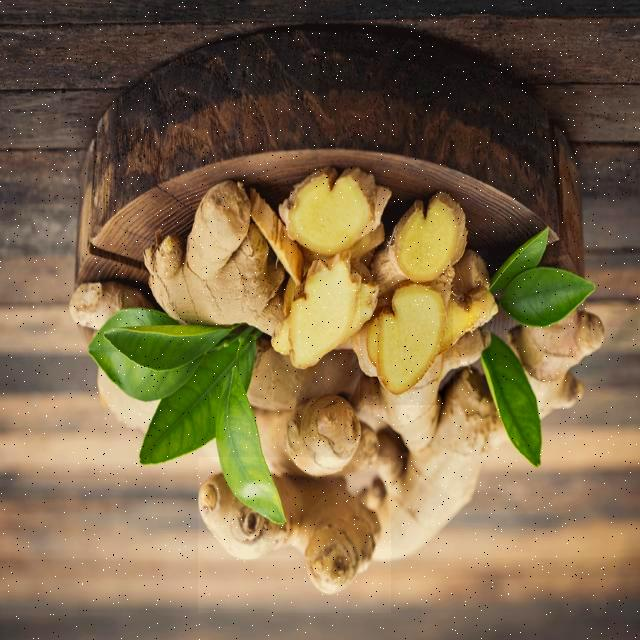ginger: (198, 457, 391, 613), (360, 280, 453, 405)
